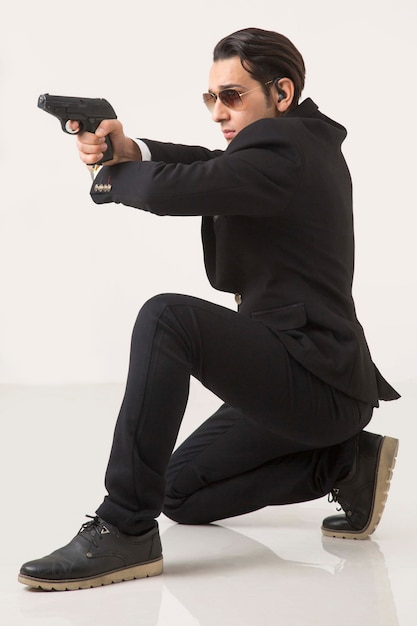gun: (35, 88, 124, 165)
